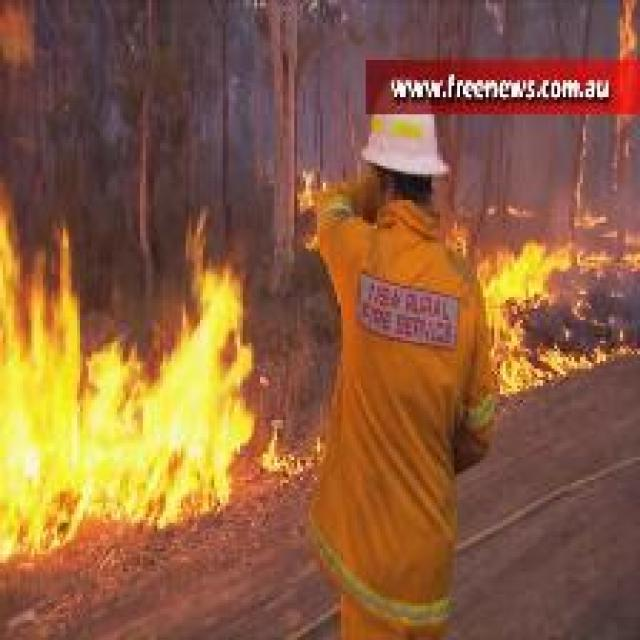Fire: (0, 178, 254, 561), (477, 200, 637, 400), (260, 422, 292, 476), (298, 168, 316, 214)
